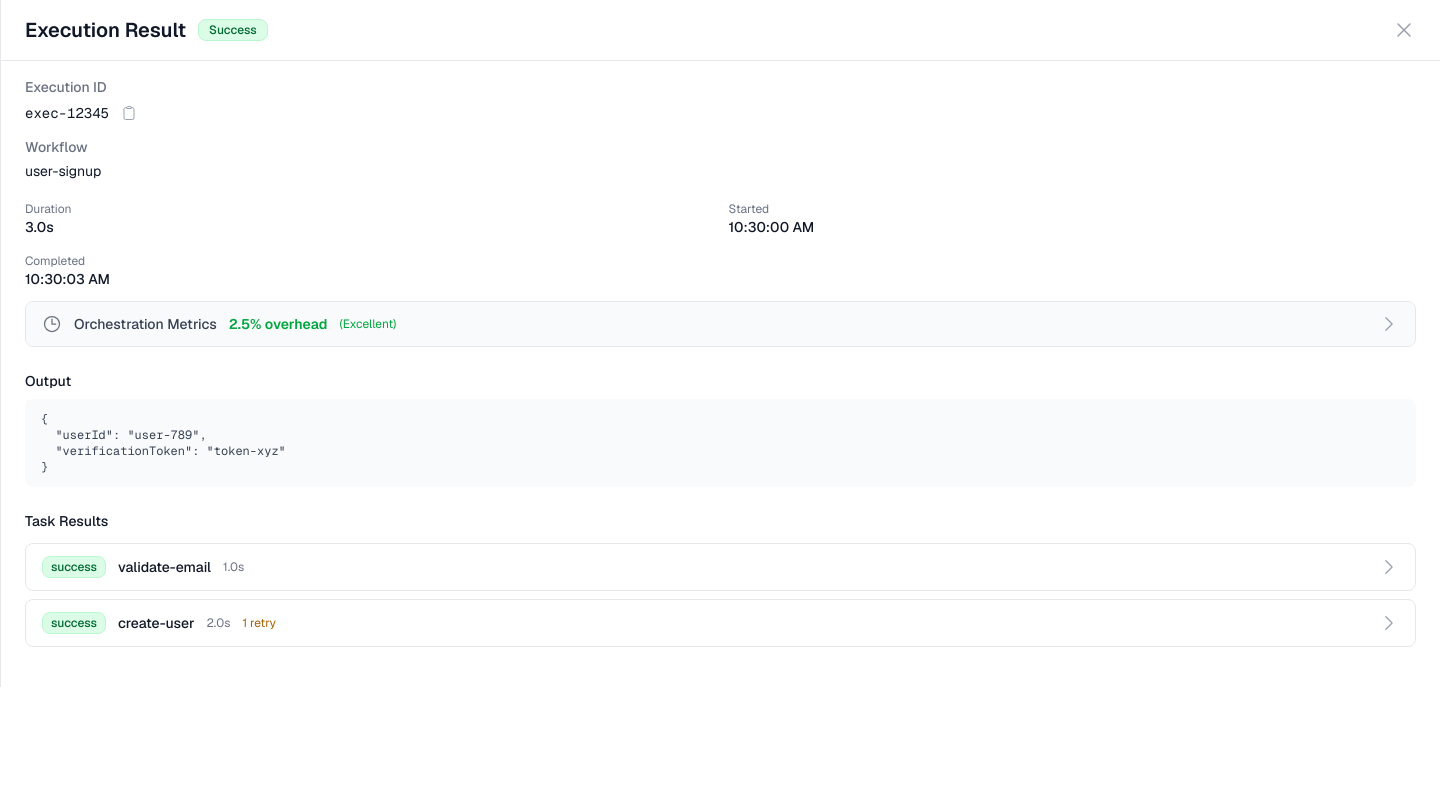
Scenario: ExecutionResultPanel › Orchestration Cost Metrics › can expand orchestration metrics section
What coordinates should you click on to do the following:
click the button with aria-label "toggle orchestration metrics"
I would click on:
 (145, 324)
Its box is x1=26 y1=302 x2=1415 y2=346.
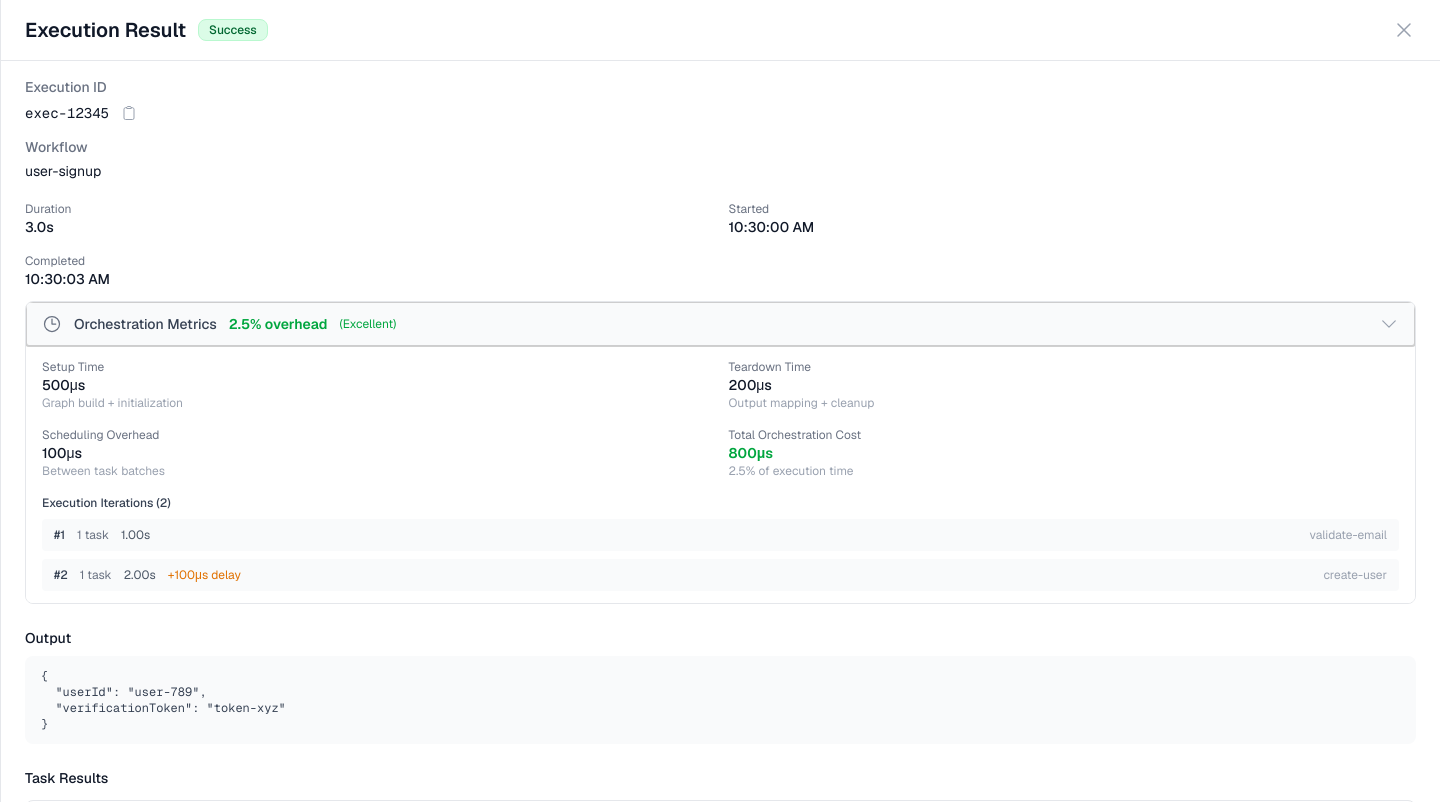
Expected: the text "Setup Time" is shown, x1=42 y1=359 x2=104 y2=375
Expected: the text "Teardown Time" is shown, x1=728 y1=359 x2=811 y2=375
Expected: the text "Scheduling Overhead" is shown, x1=42 y1=427 x2=160 y2=443
